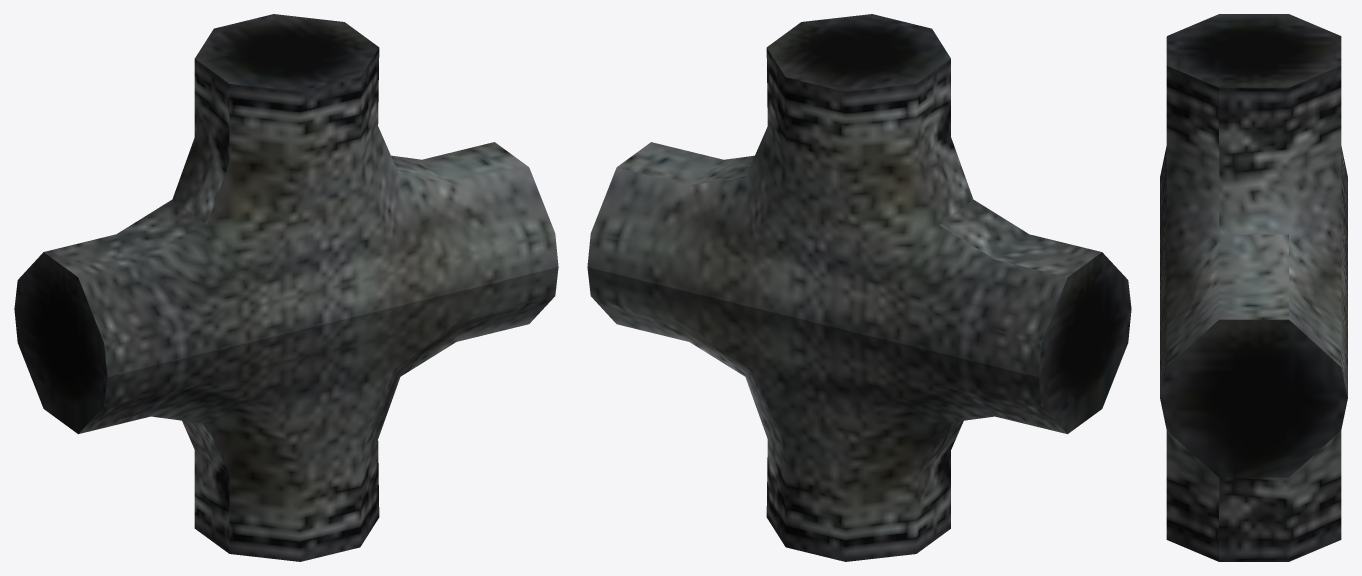
The model's file is bunker_pipe_xconnection.glb.
3 views of the same model, side by side, from view 1: azimuth 30°, elevation 25°; view 2: azimuth 150°, elevation 25°; view 3: azimuth 270°, elevation 25° (orthographic).
Size of the model in its own units: 4.41 by 4.39 by 1.58.
1 material, 1 textured.
